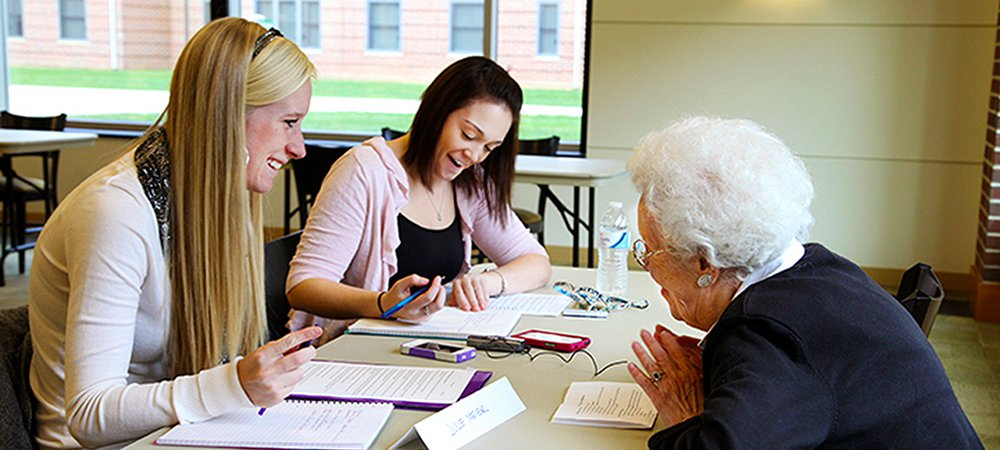Person: (45, 25, 305, 445), (620, 135, 965, 410), (340, 60, 535, 310)
